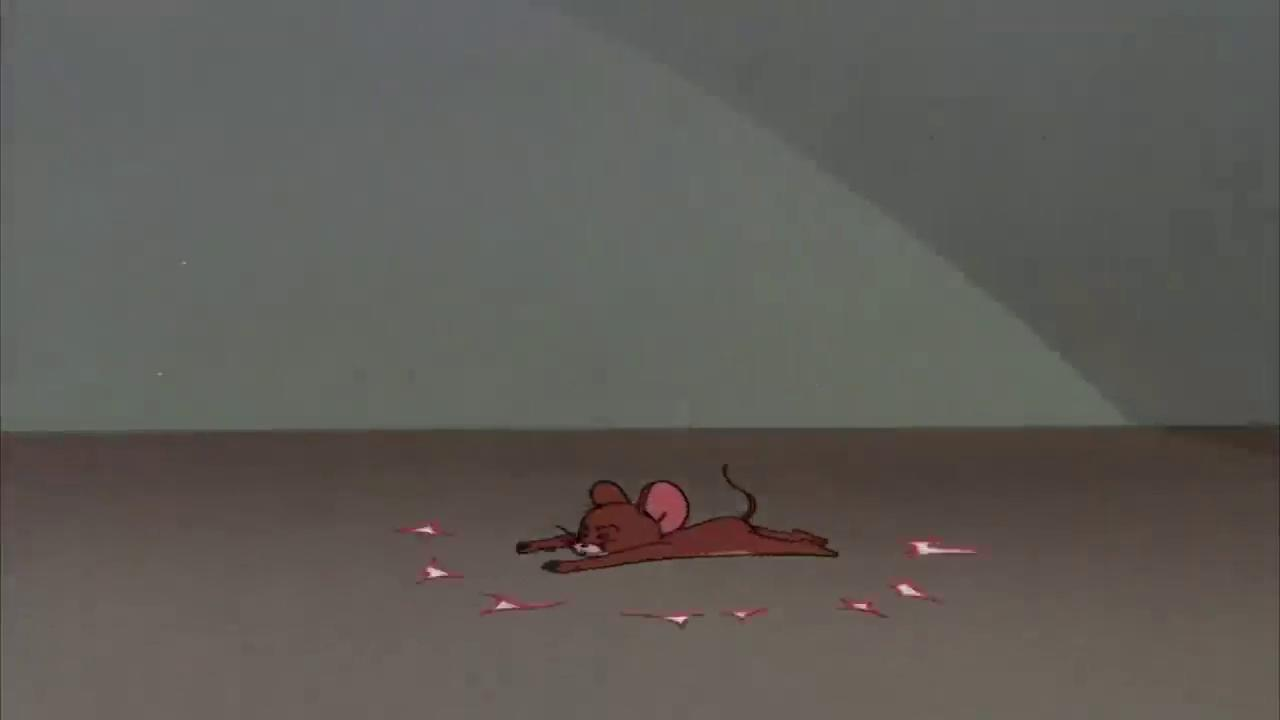Jerry: (513, 461, 841, 575)
